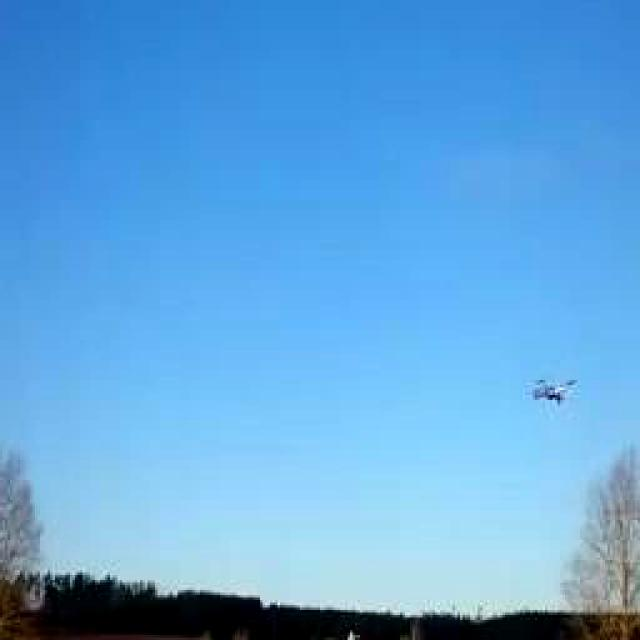bird: (515, 354, 588, 419)
